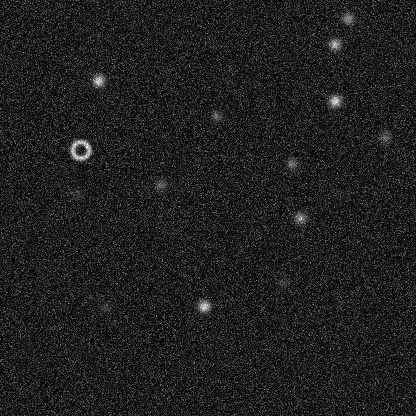Ring: (68, 137, 92, 161)
Spot: (67, 185, 83, 201), (275, 274, 291, 290), (326, 36, 342, 52), (376, 129, 392, 145), (283, 155, 299, 171), (152, 176, 168, 192), (195, 298, 211, 314), (339, 10, 355, 26), (97, 299, 113, 315), (326, 92, 342, 108), (208, 108, 224, 124), (292, 209, 308, 225), (90, 72, 106, 88)
